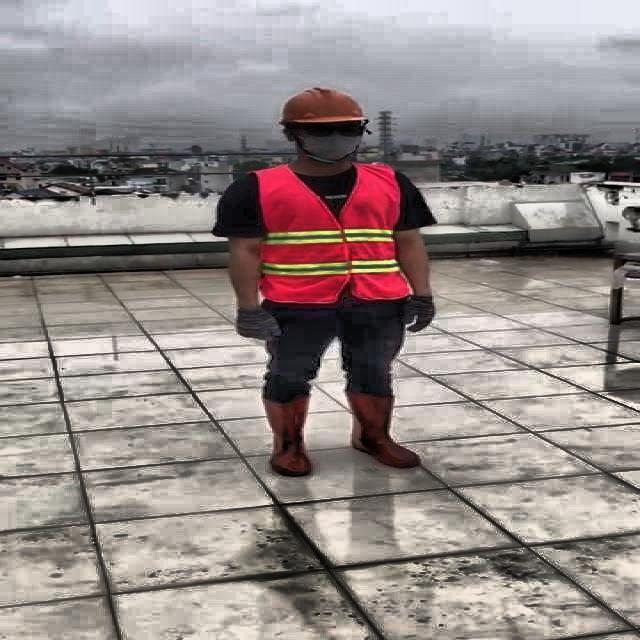safety_helmet: (280, 85, 366, 124)
safety_jacket: (249, 167, 411, 302)
